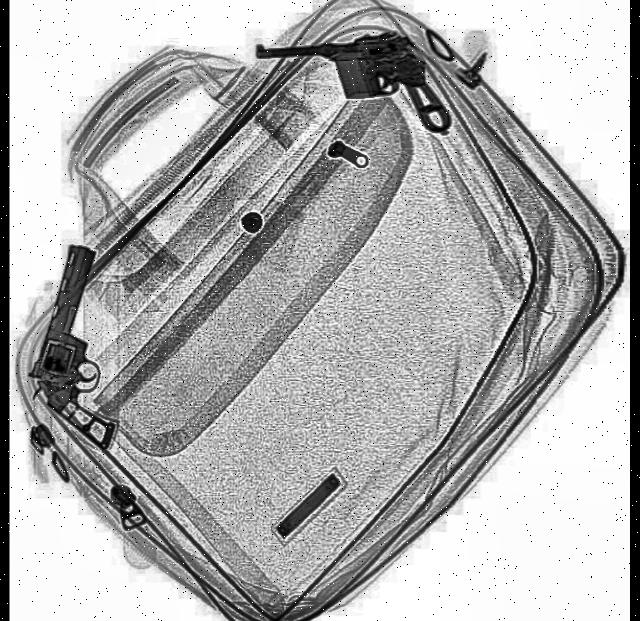Gun: (16, 237, 158, 454), (255, 28, 456, 140)
